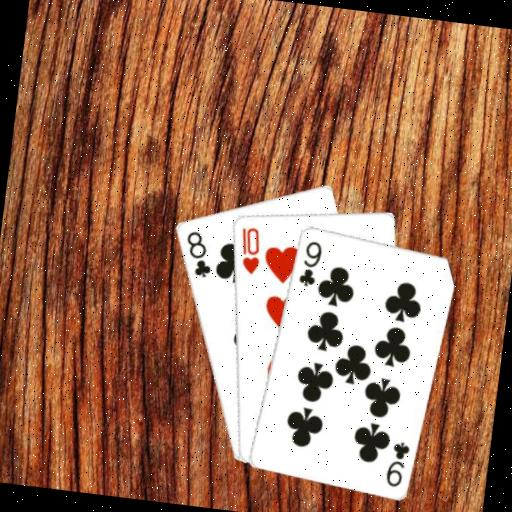10H: (233, 223, 265, 277)
8C: (179, 227, 217, 281)
9C: (381, 436, 412, 489), (294, 236, 324, 289)
